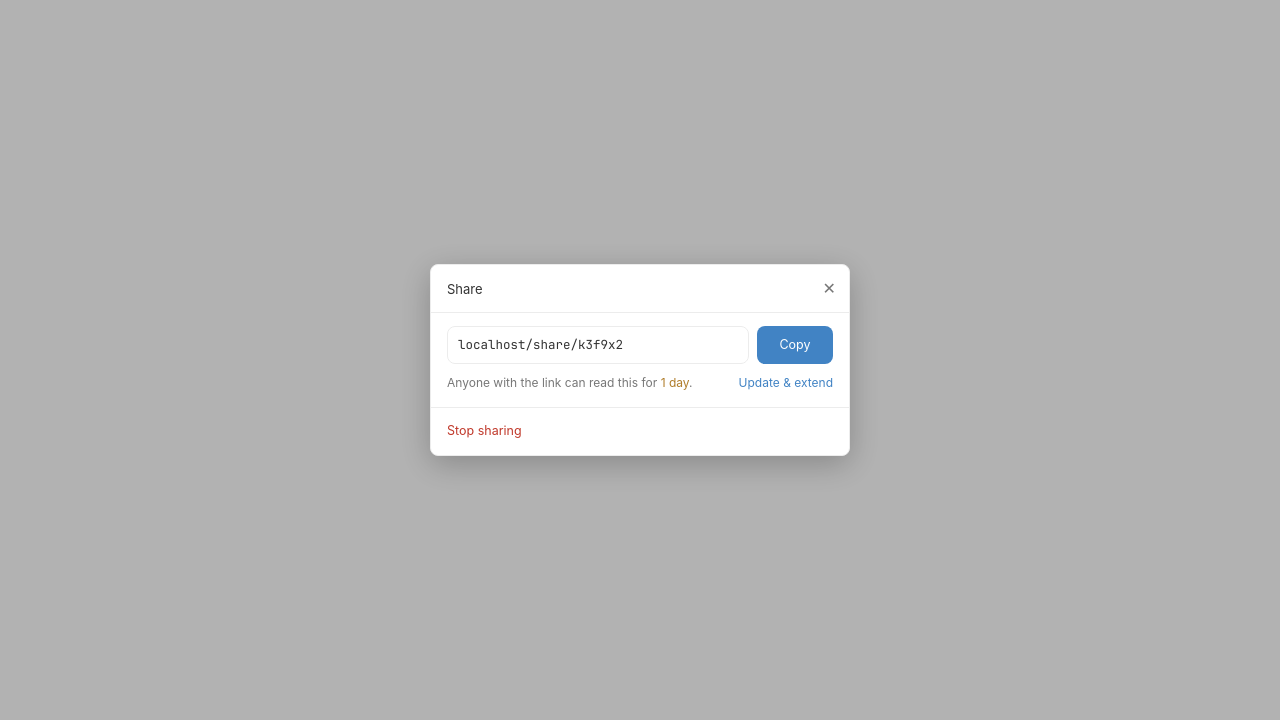
Scenario: stopping a share › asks the server, forgets the note, and says what it did
Step 1. Click the button with class "ink-share-stop" → (484, 431), box [447,421,522,441]
Wait 200 ms
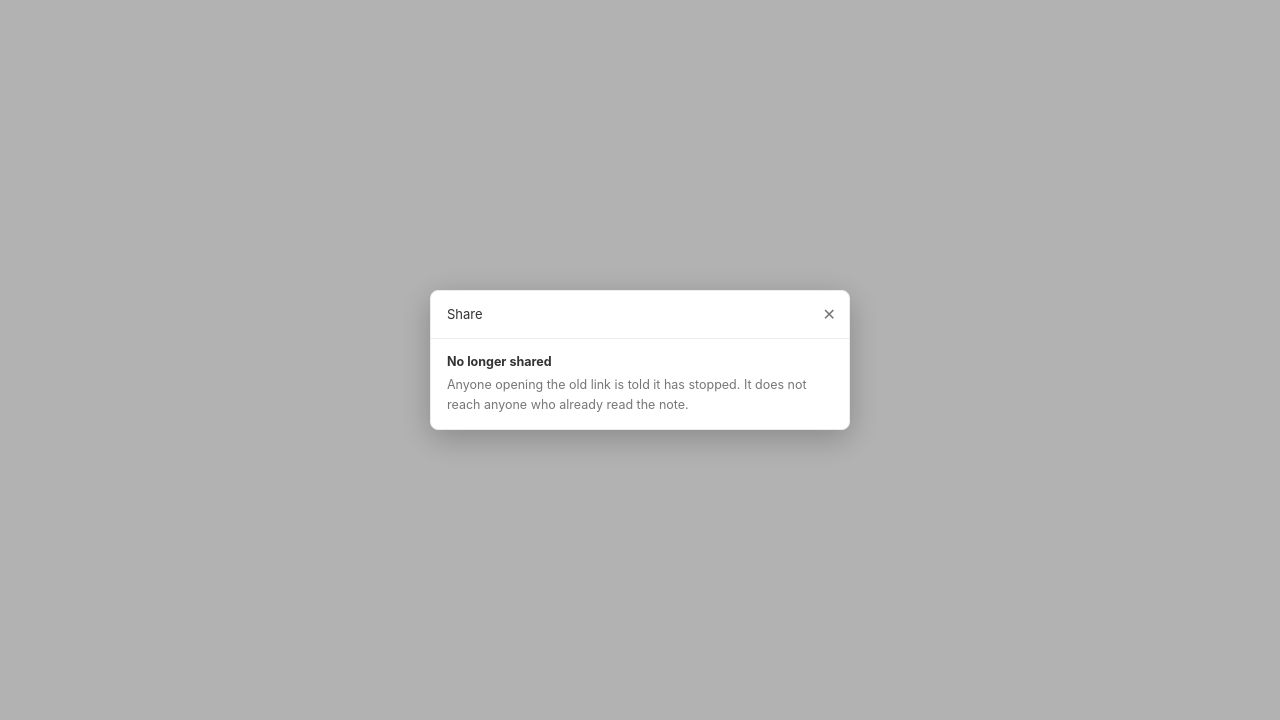
Expected: the text "No longer shared" is shown, [447,354,552,369]
